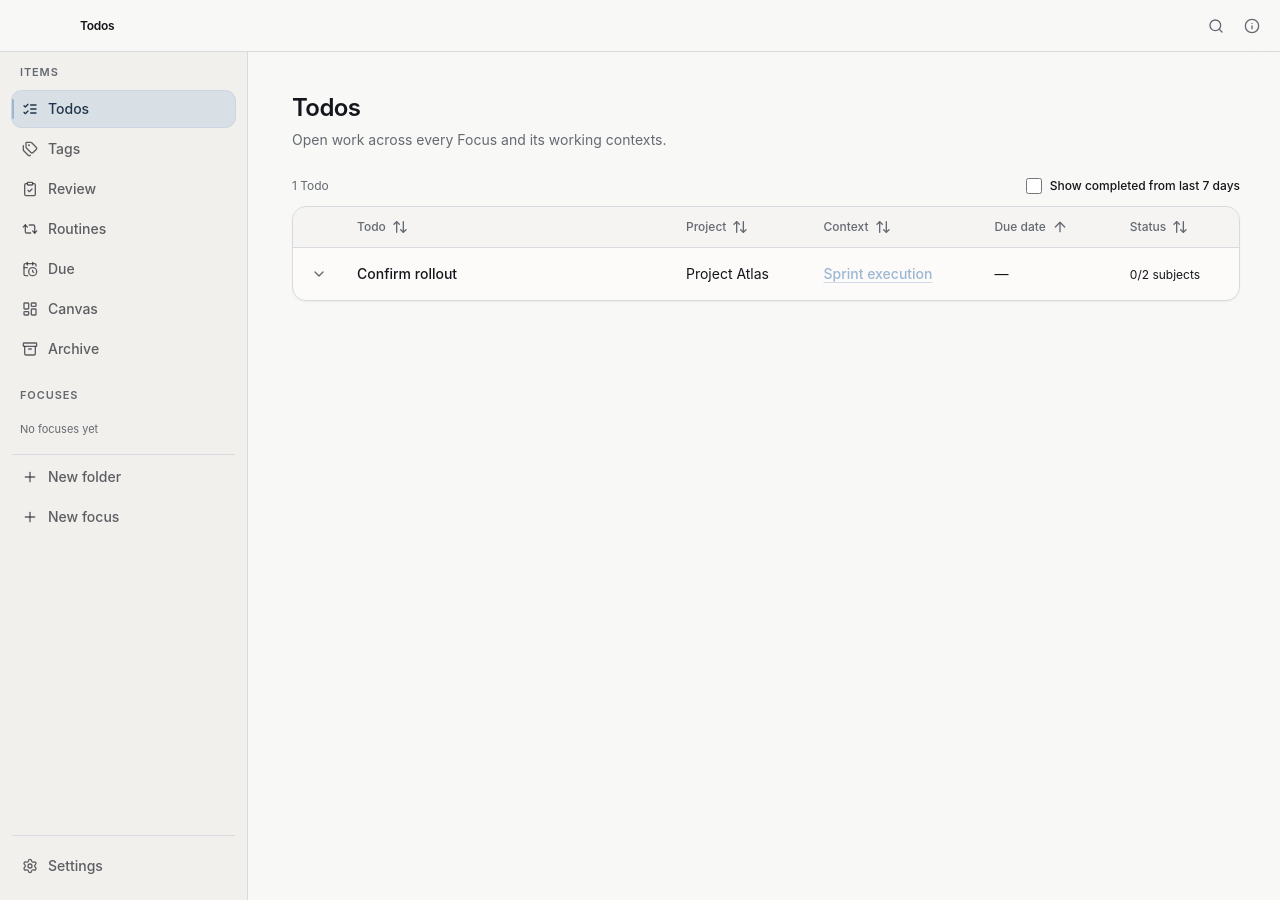
App › expands and completes shared Todo Subjects from the global parent row
Step 1. Click the button named "Show Confirm rollout Subject progress" → coordinates (319, 274), box [305, 260, 333, 288]
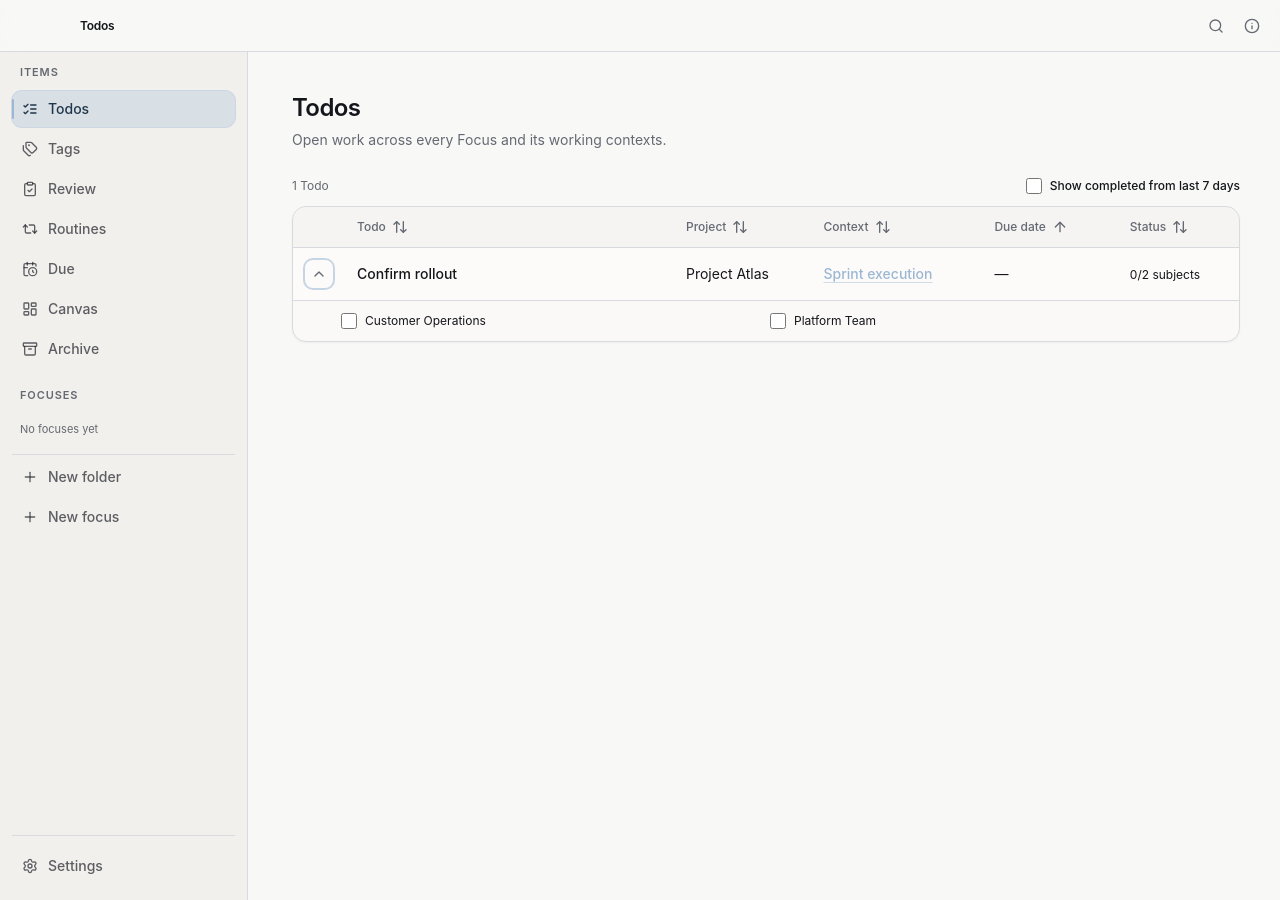
Step 2. Click the checkbox named "Mark Confirm rollout done for Customer Operations" → coordinates (349, 320), box [341, 312, 357, 328]
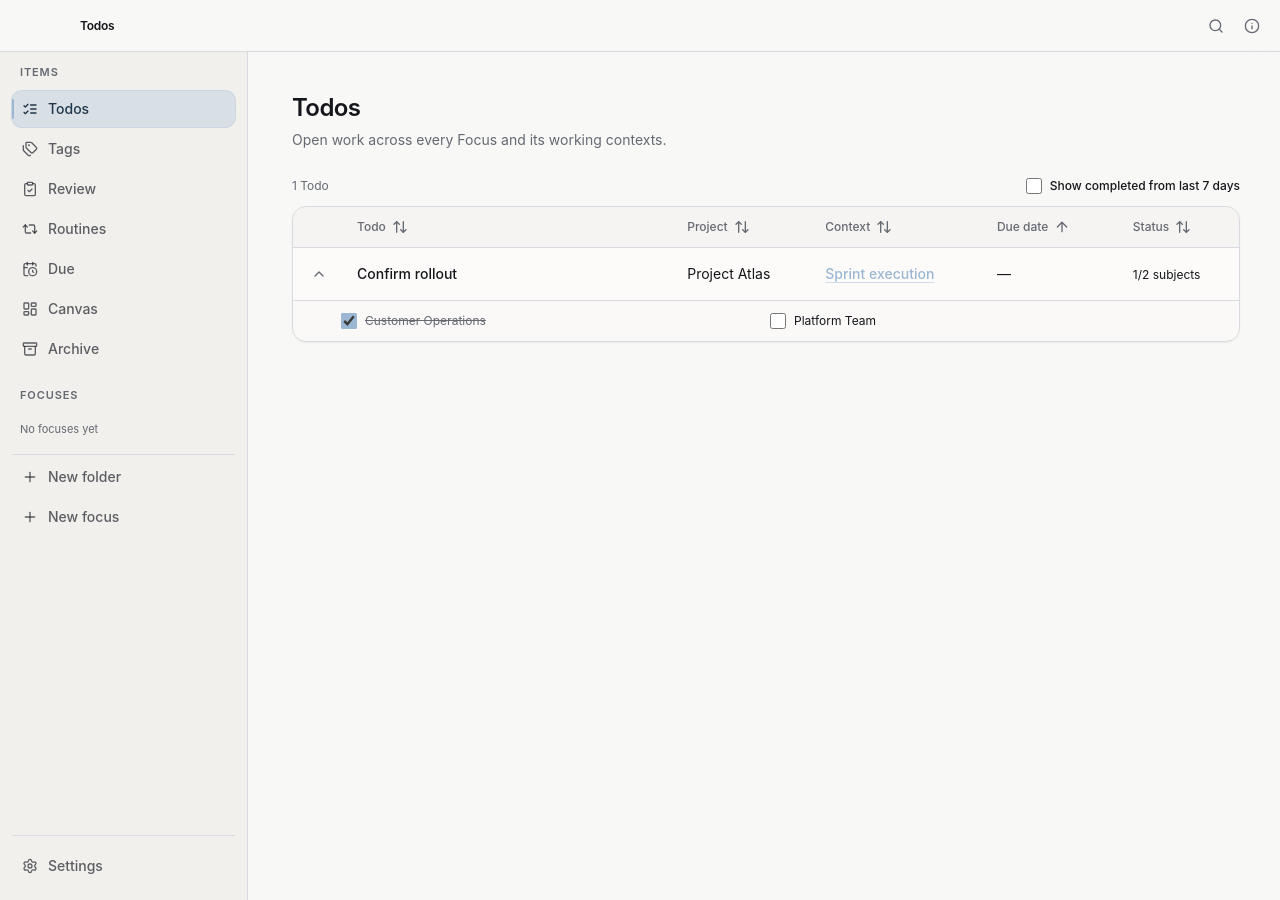
Now the text "1/2 subjects" is shown, box [1133, 266, 1200, 282]
